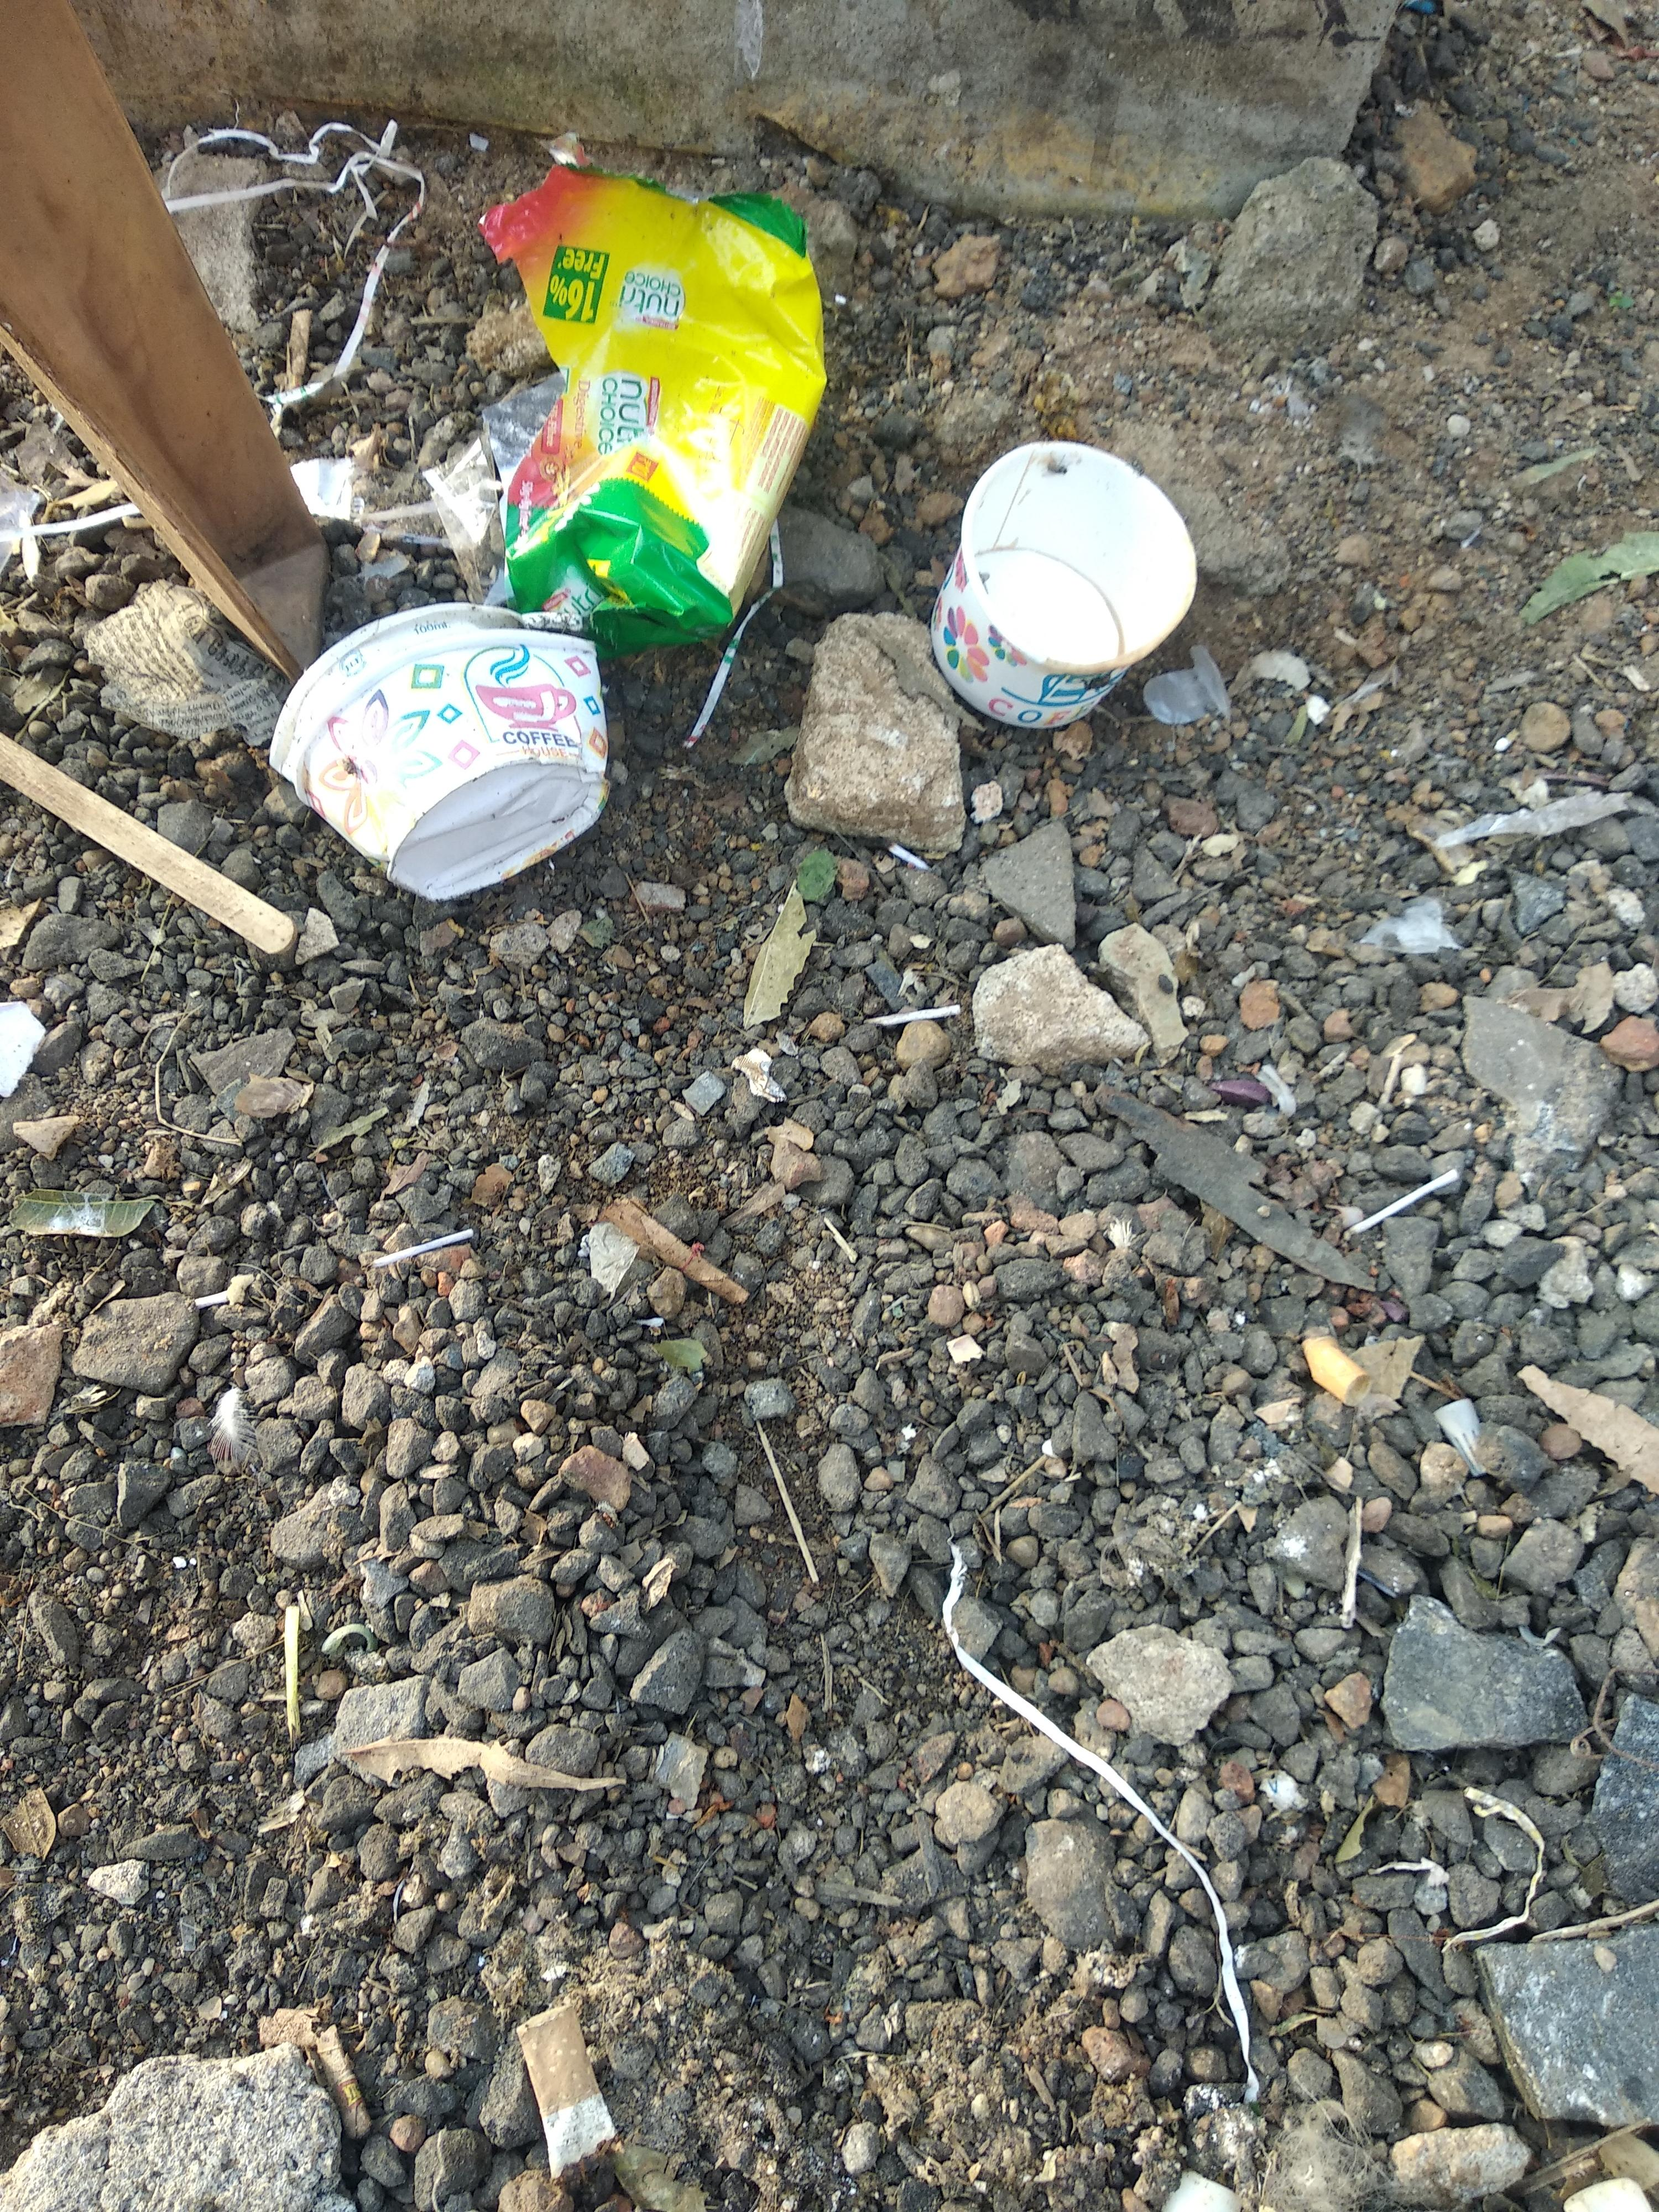trash: (0, 153, 1215, 961)
